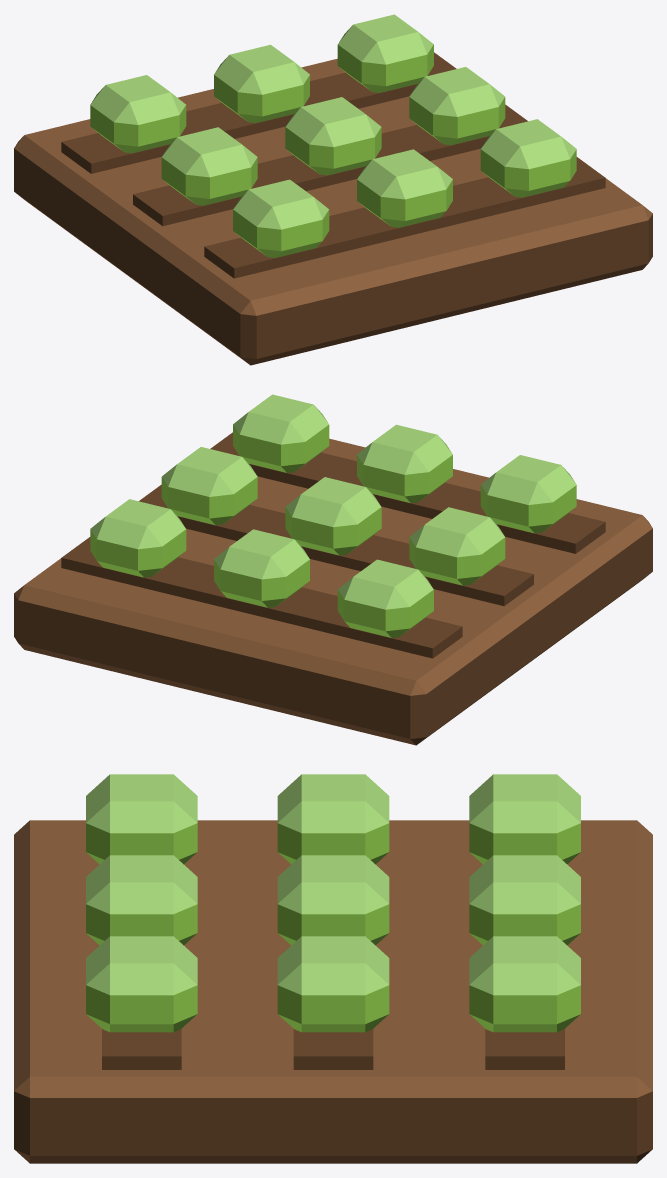
File: CabbagePatch.fbx
The picture shows the model from 3 angles, top to bottom: view 1: azimuth 30°, elevation 25°; view 2: azimuth 150°, elevation 25°; view 3: azimuth 270°, elevation 25°; orthographic projection. The views are drawn at different scales.
Visible parts, largest first — view 1: CabbagePatch; view 2: CabbagePatch; view 3: CabbagePatch.
Boxes of the visible parts, box(x1,y1,x2,y2) form: CabbagePatch: box(14, 14, 652, 365); CabbagePatch: box(14, 394, 652, 745); CabbagePatch: box(14, 774, 652, 1163).
Size of the model in its own units: 4 by 1.15 by 4.
1 material, 1 textured.
